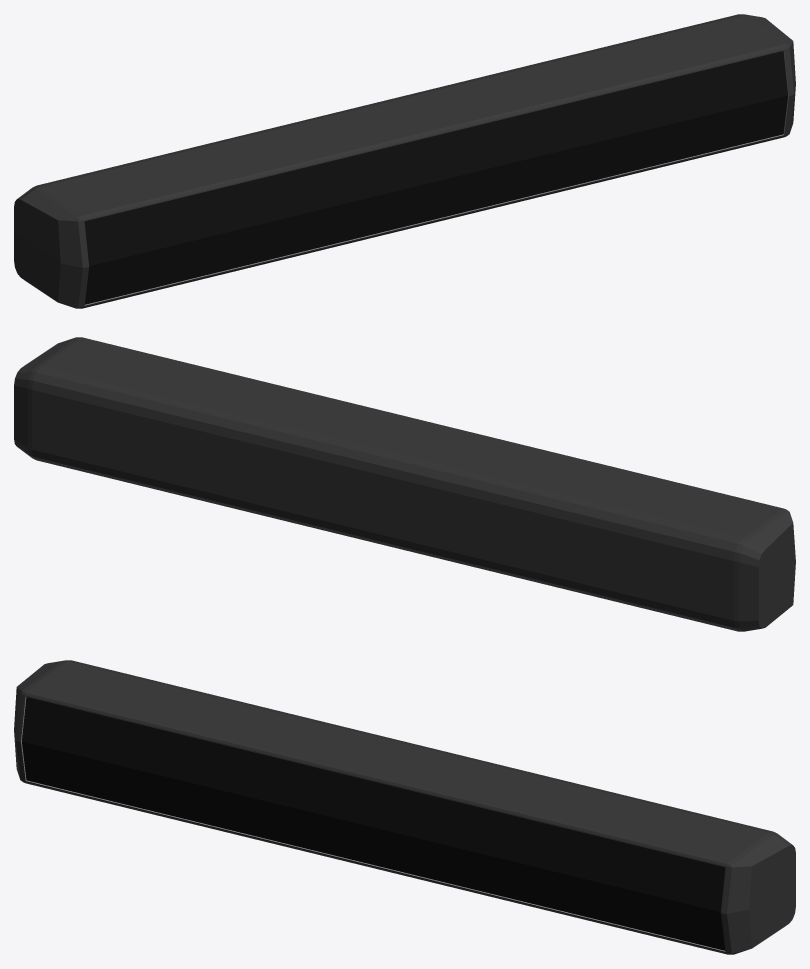
The model's file is Prop_HomeTheater_03.fbx.
The picture shows the model from 3 angles, top to bottom: view 1: azimuth 30°, elevation 25°; view 2: azimuth 150°, elevation 25°; view 3: azimuth 330°, elevation 25°; orthographic projection.
Visible parts, largest first — view 1: Prop_HomeTheater_03; view 2: Prop_HomeTheater_03; view 3: Prop_HomeTheater_03.
Boxes of the visible parts, bbox=[...] form: Prop_HomeTheater_03: bbox=[14, 14, 795, 308]; Prop_HomeTheater_03: bbox=[14, 337, 795, 631]; Prop_HomeTheater_03: bbox=[14, 660, 795, 954].
Size of the model in its own units: 126 by 14.89 by 16.39.
